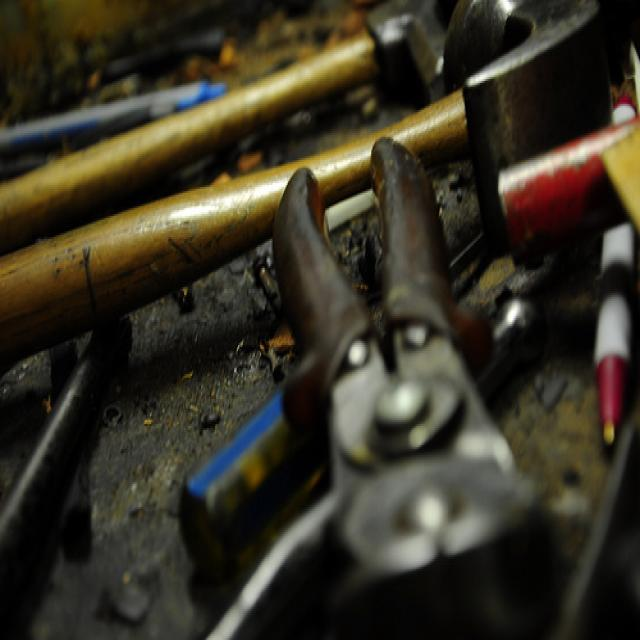hammer: (0, 0, 628, 327), (0, 0, 454, 204)
pliers: (266, 143, 538, 640)
